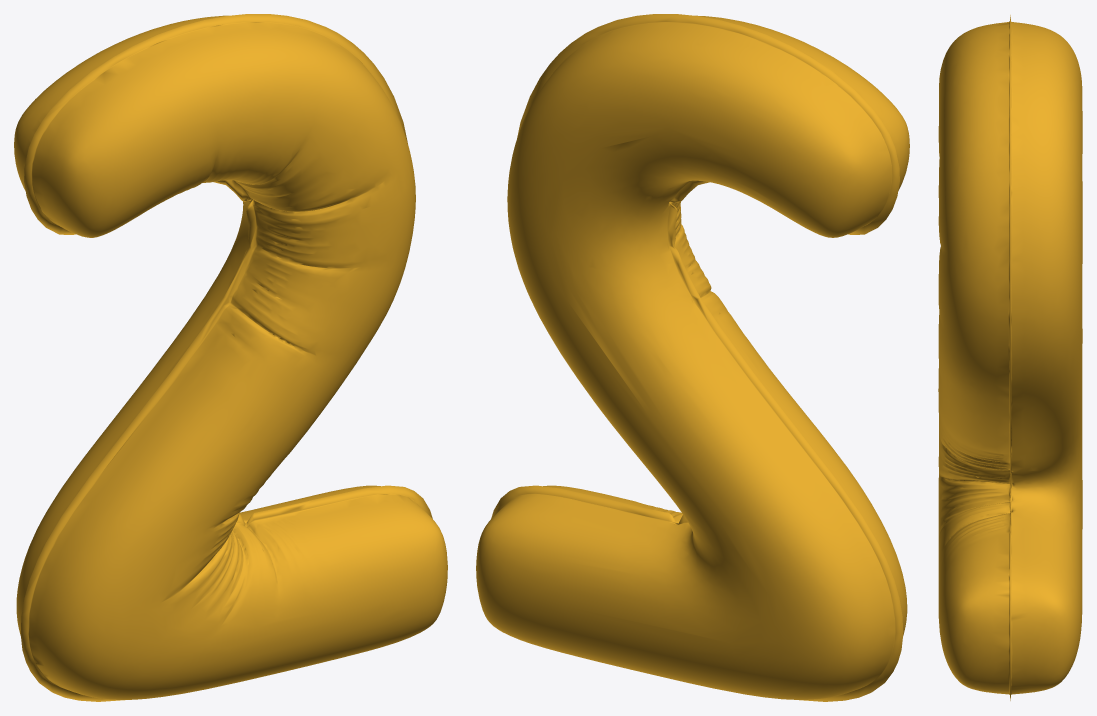
File: zahlen-gold-nr2-gruppe.glb
The picture shows the model from 3 angles, left to right: view 1: azimuth 30°, elevation 25°; view 2: azimuth 150°, elevation 25°; view 3: azimuth 270°, elevation 25°; orthographic projection. The views are drawn at different scales.
Visible parts, largest first — view 1: nr2; view 2: nr2; view 3: nr2.
Part boxes in pixels (left/top/right/bottom): nr2: left=14, top=14, right=447, bottom=701; nr2: left=476, top=14, right=909, bottom=701; nr2: left=938, top=15, right=1082, bottom=700.
Size of the model in its own units: 0.4137 by 0.6344 by 0.1414.
